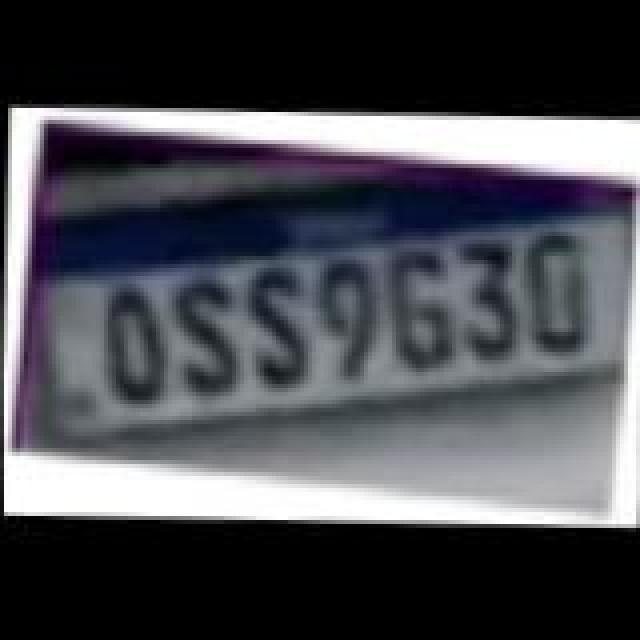3: (438, 240, 534, 368)
9: (302, 256, 398, 384)
D: (504, 234, 604, 362)
G: (374, 248, 470, 376)
O: (86, 284, 178, 412)
S: (230, 264, 326, 396), (158, 274, 254, 402)
